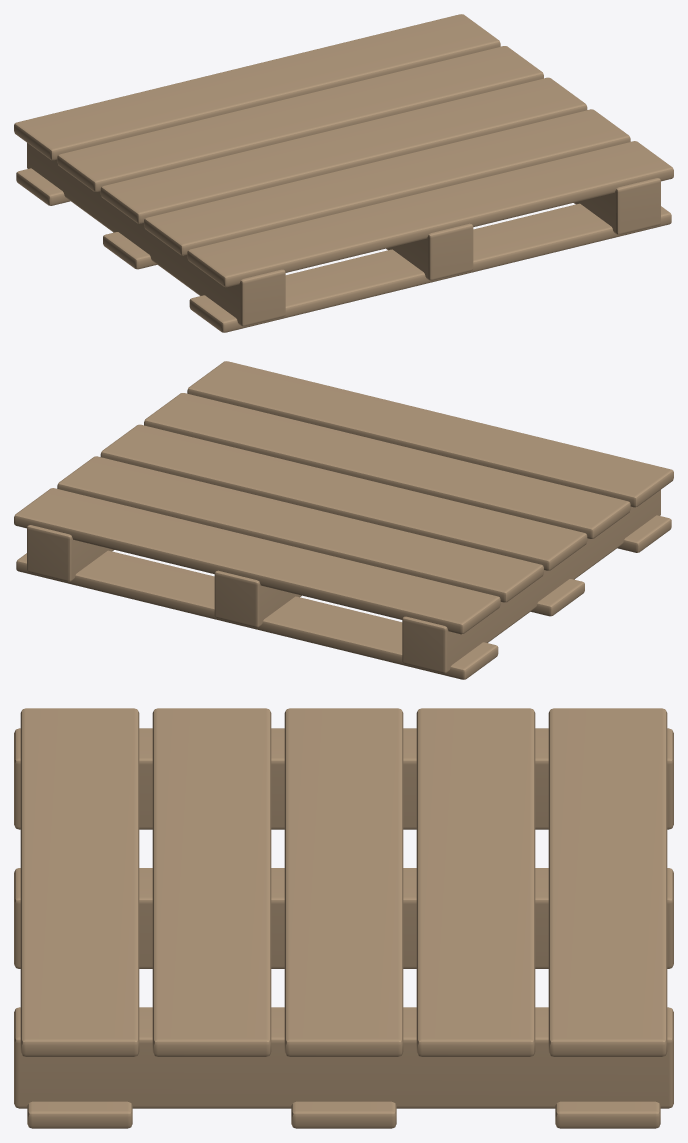
File: pallet.glb
3 renders of one model, top to bottom at view 1: azimuth 30°, elevation 25°; view 2: azimuth 150°, elevation 25°; view 3: azimuth 270°, elevation 25°, orthographic. The views are drawn at different scales.
Visible parts, largest first — view 1: pallet; view 2: pallet; view 3: pallet.
Part boxes in pixels (x1,y1,x2,y2): pallet: (14, 14, 673, 332); pallet: (14, 361, 673, 679); pallet: (14, 708, 673, 1128).
Bounding box in the file's own units: 1.2 × 0.15 × 1.
